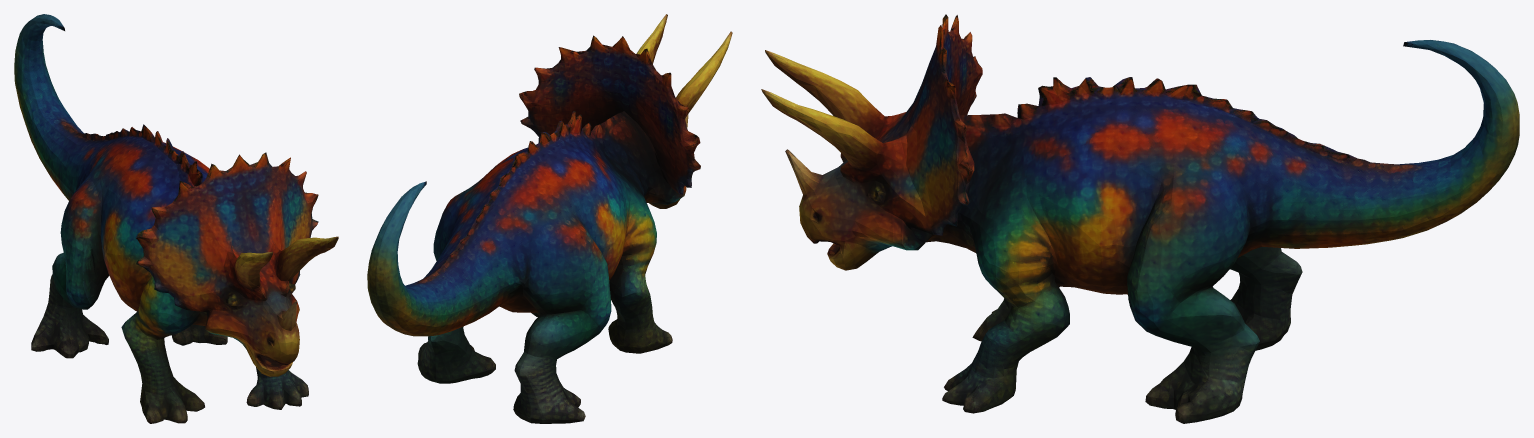
The model's file is fire-frilled_three-horned_face_-_dinosaur.glb.
The picture shows the model from 3 angles, left to right: view 1: azimuth 30°, elevation 25°; view 2: azimuth 150°, elevation 25°; view 3: azimuth 270°, elevation 25°; orthographic projection. The views are drawn at different scales.
Parts seen in each view (by area): view 1: node_id42; view 2: node_id42; view 3: node_id42.
Boxes of the visible parts, box(x1,y1,x2,y2) form: node_id42: box(14, 14, 338, 423); node_id42: box(367, 14, 732, 423); node_id42: box(761, 14, 1519, 423).
Bounding box in the file's own units: 0.2549 × 0.3457 × 0.6944.
Materials: 1 (1 with a texture image).
